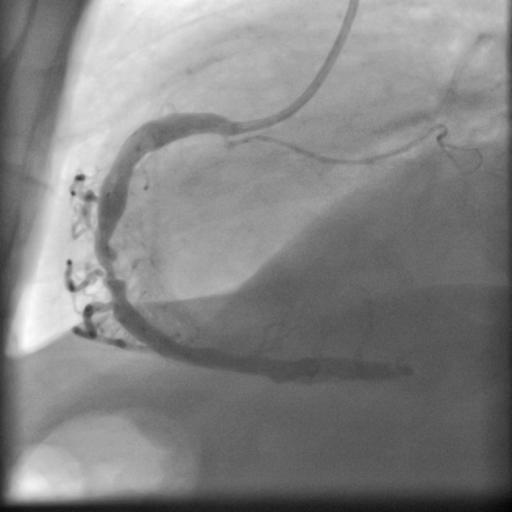Stenosis: (93, 249, 133, 286)
